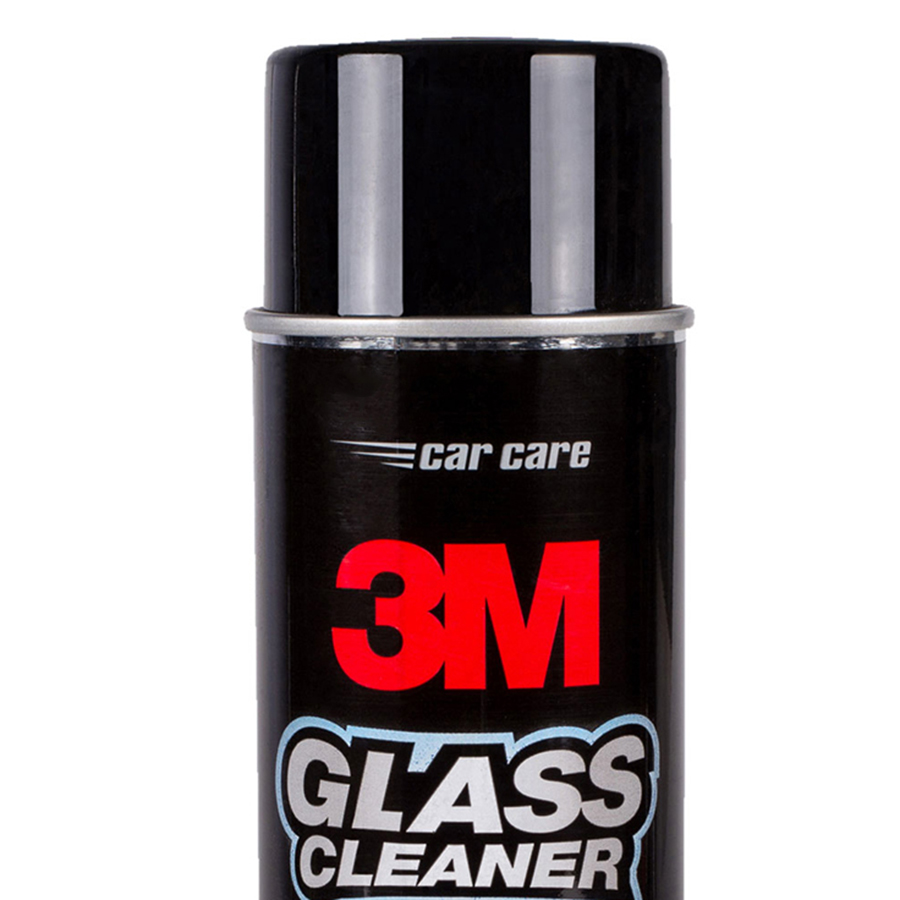3M: (329, 516, 621, 702)
